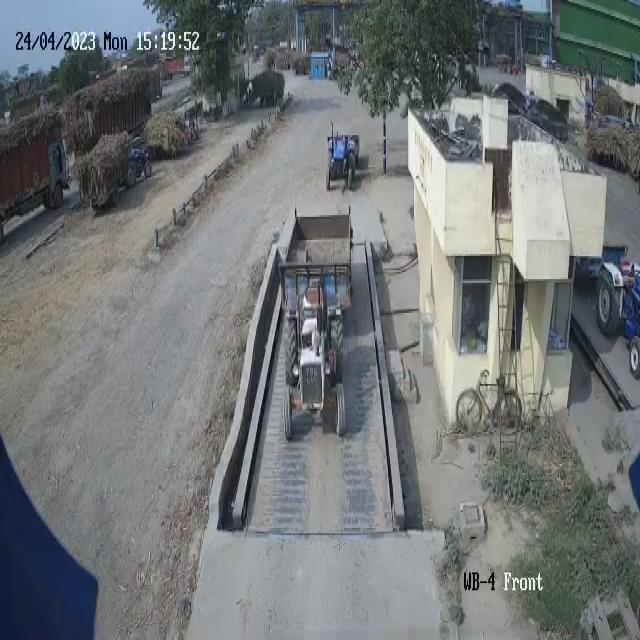Tratores - v5 YOLO V8L 2024-11-13: (276, 270, 350, 450), (598, 253, 640, 383), (324, 126, 361, 194), (122, 137, 156, 190)
